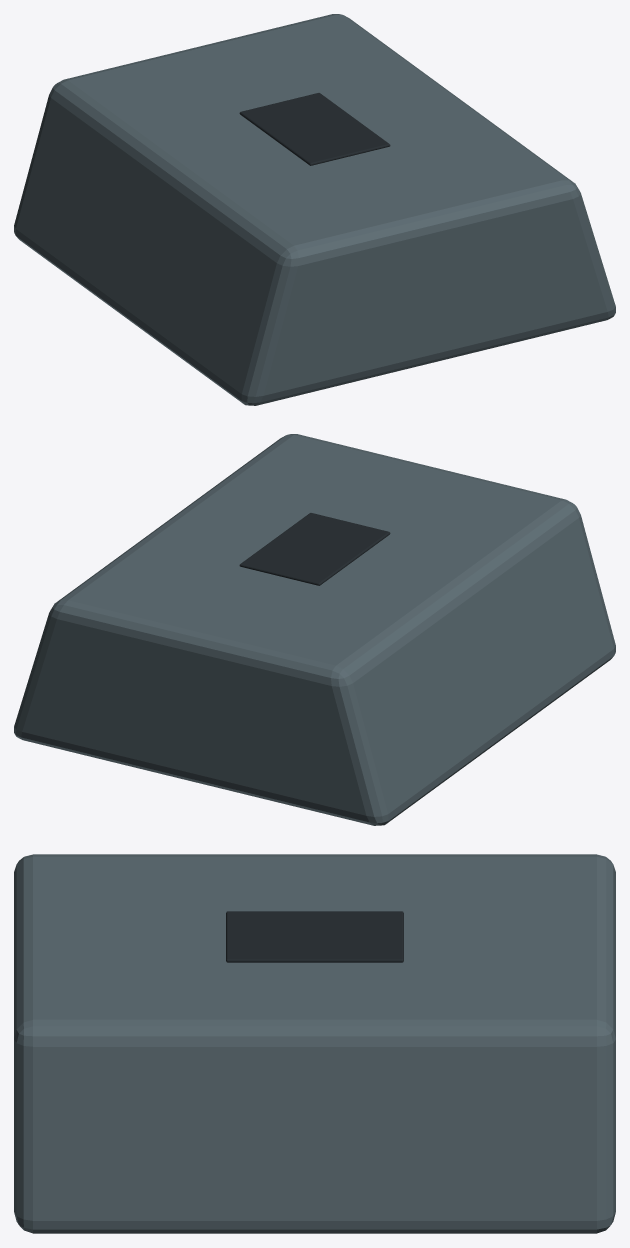
The model's file is morrow_alloy.glb.
3 renders of one model, top to bottom at view 1: azimuth 30°, elevation 25°; view 2: azimuth 150°, elevation 25°; view 3: azimuth 270°, elevation 25°, orthographic. The views are drawn at different scales.
Visible parts, largest first — view 1: CastAlloyBillet, AssayInset; view 2: CastAlloyBillet, AssayInset; view 3: CastAlloyBillet, AssayInset.
Boxes of the visible parts, x1=… form: CastAlloyBillet: x1=14, y1=14, x2=615, y2=405; AssayInset: x1=239, y1=93, x2=390, y2=165; CastAlloyBillet: x1=14, y1=434, x2=615, y2=825; AssayInset: x1=239, y1=513, x2=390, y2=585; CastAlloyBillet: x1=14, y1=854, x2=615, y2=1233; AssayInset: x1=226, y1=911, x2=403, y2=962.
Size of the model in its own units: 0.785 by 0.305 by 0.88.
